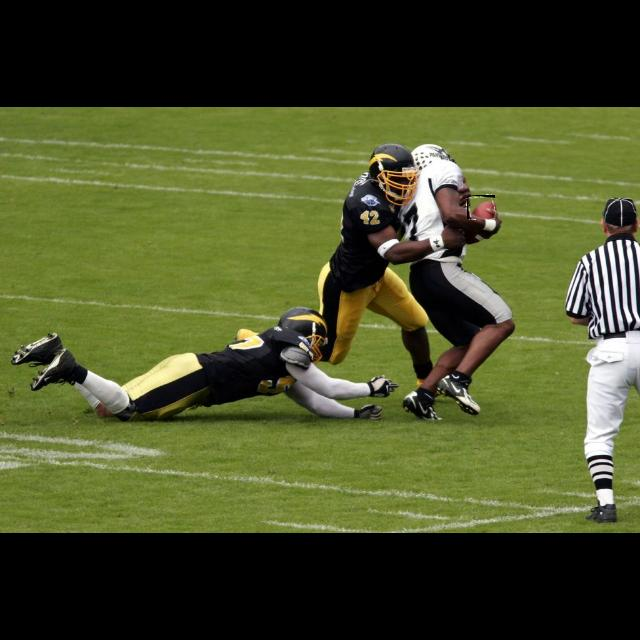Football: (467, 195, 495, 219)
